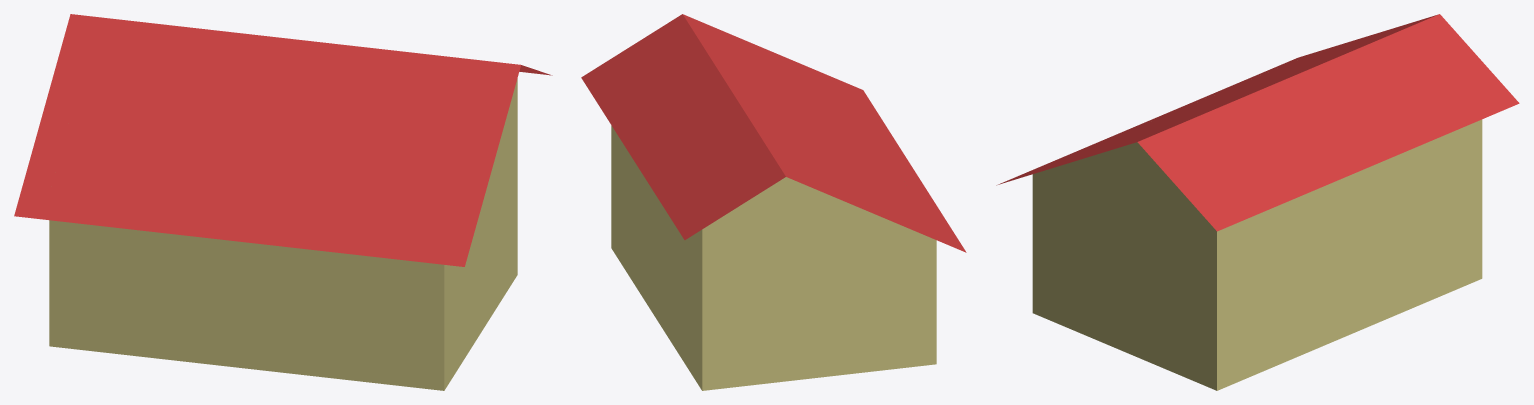
3 views of the same model, side by side, from view 1: azimuth 30°, elevation 25°; view 2: azimuth 150°, elevation 25°; view 3: azimuth 270°, elevation 25° (orthographic). The views are drawn at different scales.
Size of the model in its own units: 19.79 by 19.78 by 9.62.
